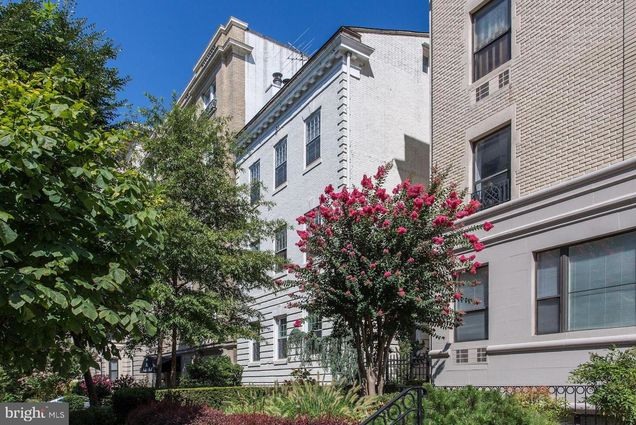tree: (1, 1, 156, 401), (273, 163, 496, 400), (124, 89, 289, 390)
